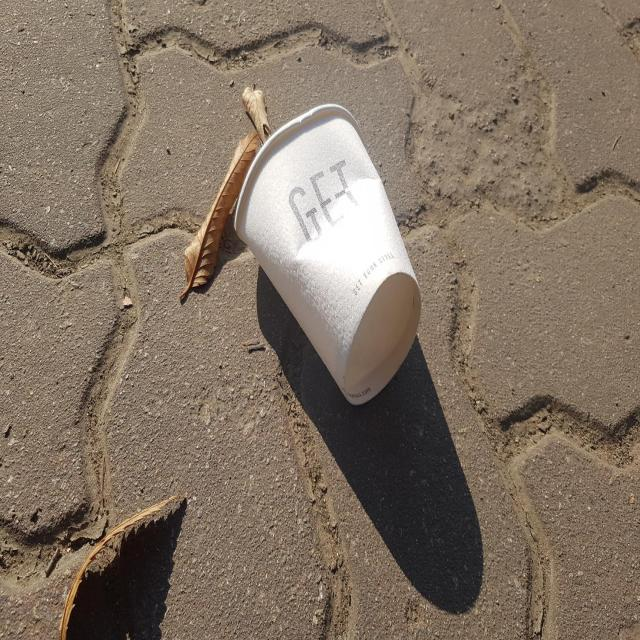paperpack: (235, 103, 421, 404)
